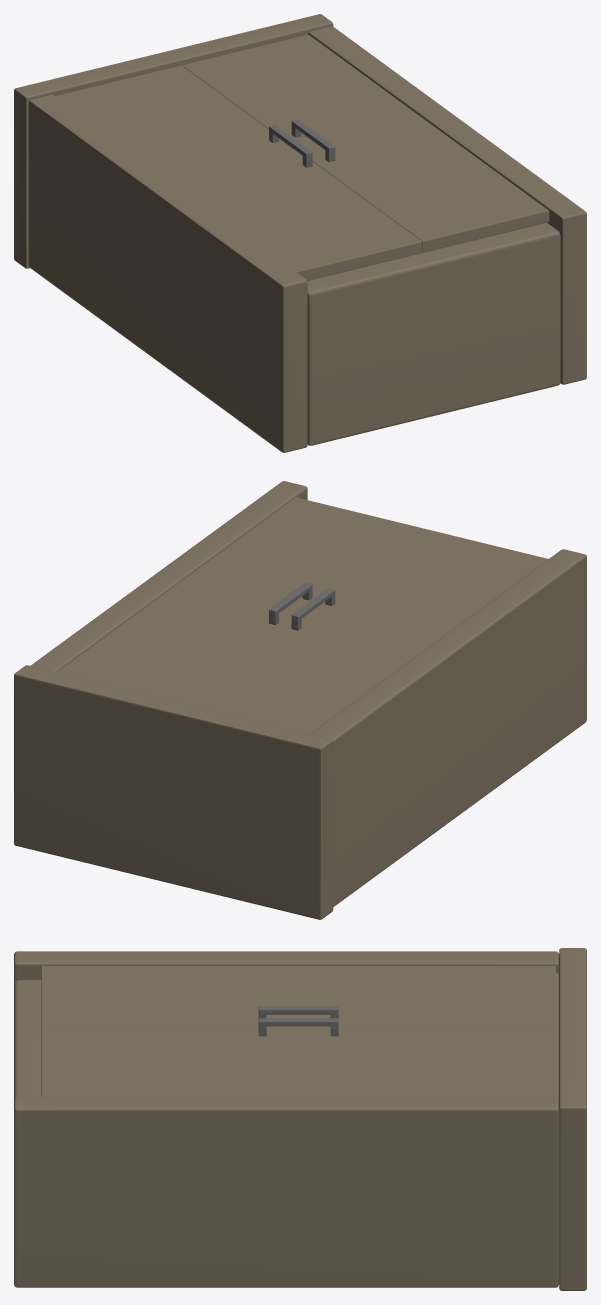
The model's file is prp_Closet_01.fbx.
3 renders of one model, top to bottom at view 1: azimuth 30°, elevation 25°; view 2: azimuth 150°, elevation 25°; view 3: azimuth 270°, elevation 25°, orthographic. The views are drawn at different scales.
Visible parts, largest first — view 1: PRP_Closet_01, PRP_Closet_01_Base, PRP_Closet_01_Top; view 2: PRP_Closet_01, PRP_Closet_01_Top; view 3: PRP_Closet_01, PRP_Closet_01_Top, PRP_Closet_01_Base.
Part boxes in pixels (left/top/right/bottom): PRP_Closet_01: left=28, top=26, right=586, bottom=452; PRP_Closet_01_Base: left=307, top=222, right=560, bottom=445; PRP_Closet_01_Top: left=14, top=14, right=333, bottom=268; PRP_Closet_01: left=30, top=481, right=586, bottom=906; PRP_Closet_01_Top: left=14, top=665, right=333, bottom=919; PRP_Closet_01: left=14, top=951, right=559, bottom=1287; PRP_Closet_01_Top: left=555, top=948, right=586, bottom=1290; PRP_Closet_01_Base: left=14, top=980, right=41, bottom=1099.
Size of the model in its own units: 206 by 119 by 312.
